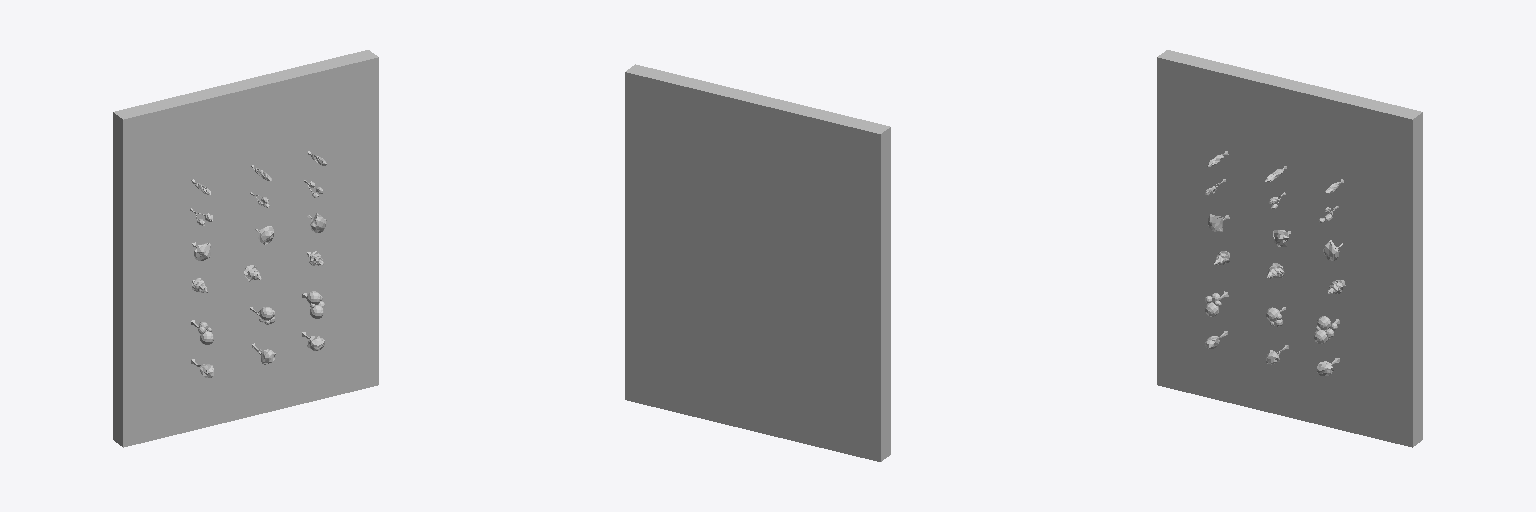
Rendered from low-poly trees.obj.
The picture shows the model from 3 angles: view 1: azimuth 30°, elevation 25°; view 2: azimuth 150°, elevation 25°; view 3: azimuth 330°, elevation 25°; orthographic projection.
Parts seen in each view (by area): view 1: Box096; view 2: Box096; view 3: Box096.
Part boxes in pixels (x1,y1,x2,y2): Box096: (113,50,378,447); Box096: (625,64,890,461); Box096: (1157,50,1422,447).
Bounding box in the file's own units: 1213 × 1487 × 251.